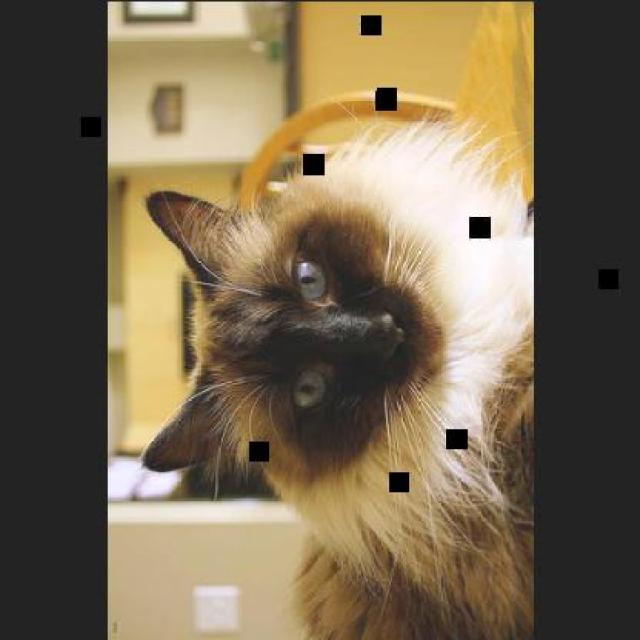unauthorized: (136, 0, 535, 638)
